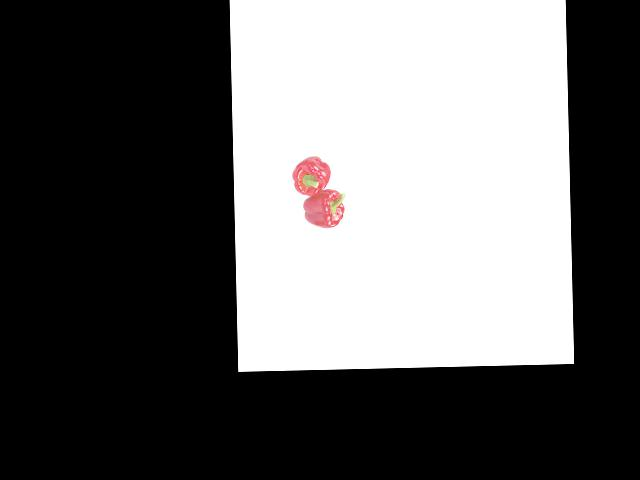bell_pepper: (299, 187, 347, 229)
